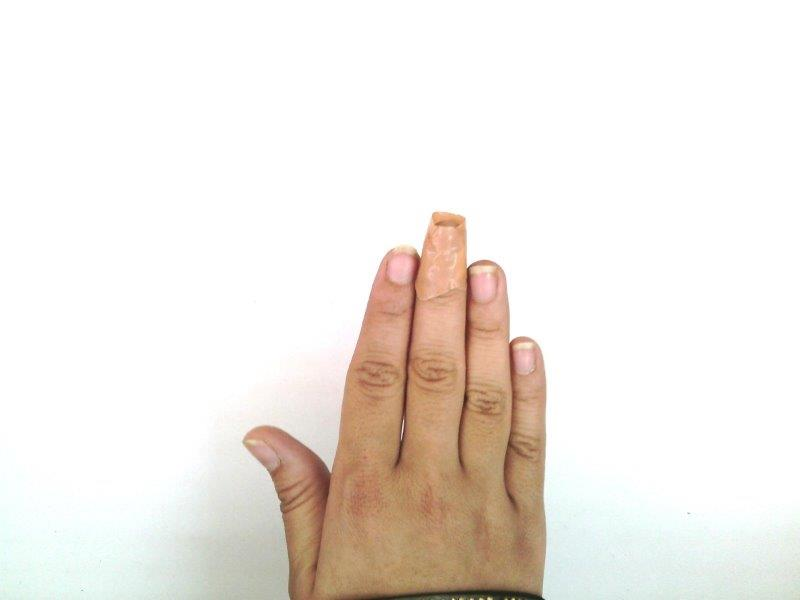hand: (239, 209, 549, 598)
